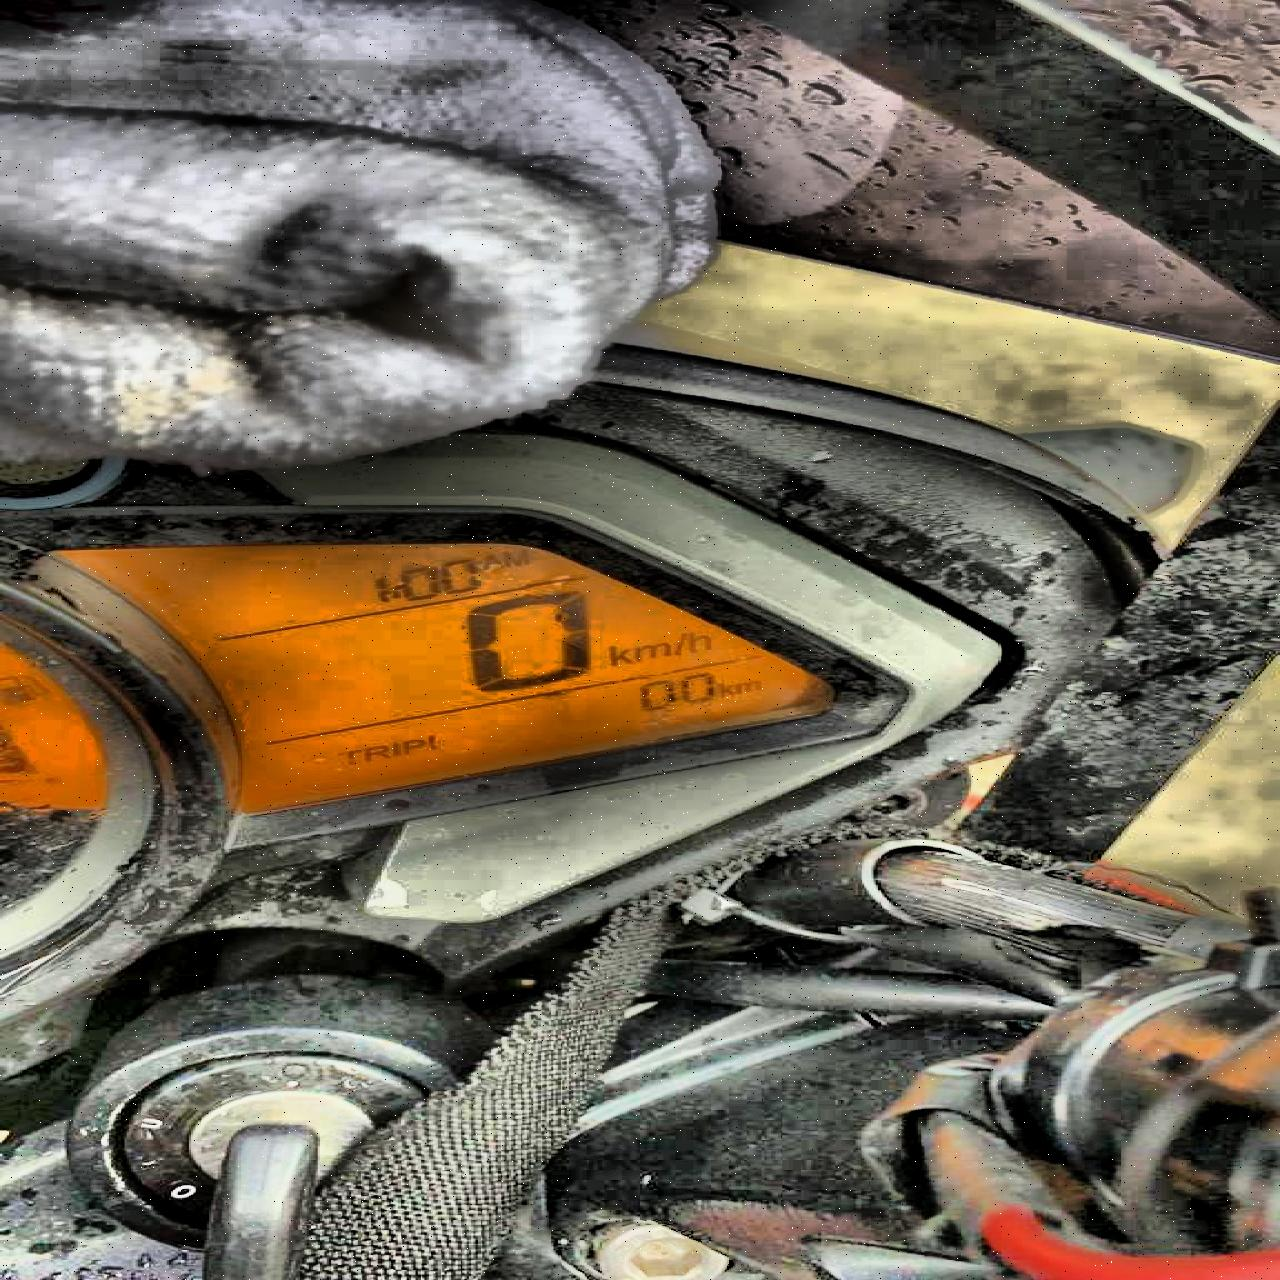0: (469, 594, 591, 690), (438, 557, 481, 592), (400, 566, 438, 600), (635, 680, 674, 710), (678, 673, 715, 703)
1: (369, 571, 387, 610), (424, 733, 437, 755)
X: (501, 547, 538, 567), (605, 642, 632, 667), (633, 641, 669, 659), (687, 628, 712, 654), (360, 742, 387, 762), (400, 735, 422, 755), (335, 745, 358, 765), (672, 628, 687, 654), (734, 680, 764, 692), (482, 552, 501, 568), (389, 578, 400, 602), (717, 681, 731, 699), (389, 738, 400, 760)
odometer: (0, 531, 840, 840)
